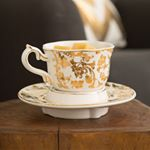cups: (19, 38, 118, 98)
